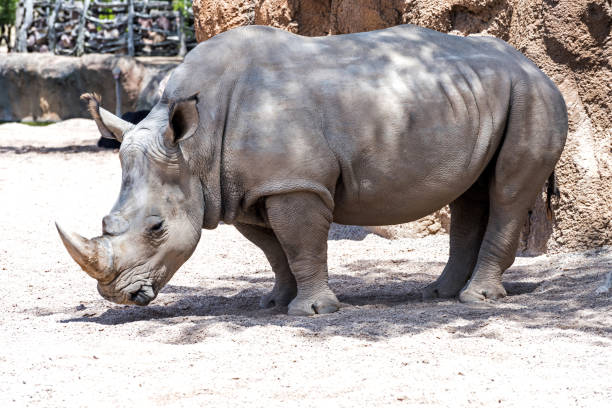rhino: (27, 87, 228, 329)
